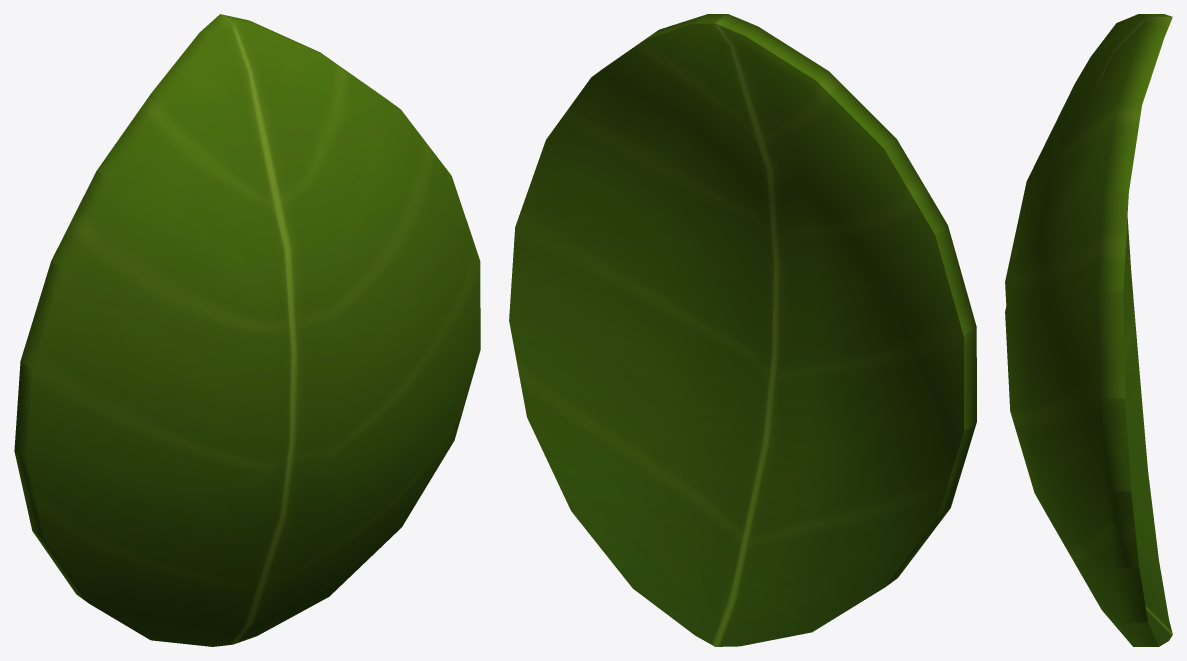
The model's file is Basil_1.fbx.
The picture shows the model from 3 angles, left to right: view 1: azimuth 30°, elevation 25°; view 2: azimuth 150°, elevation 25°; view 3: azimuth 270°, elevation 25°; orthographic projection.
Visible parts, largest first — view 1: Basil_1; view 2: Basil_1; view 3: Basil_1.
Part boxes in pixels (x1,y1,x2,y2): Basil_1: (14, 14, 480, 646); Basil_1: (509, 14, 976, 646); Basil_1: (1005, 14, 1172, 646).
Size of the model in its own units: 0.0284 by 0.0372 by 0.00916.
1 material, 1 textured.
